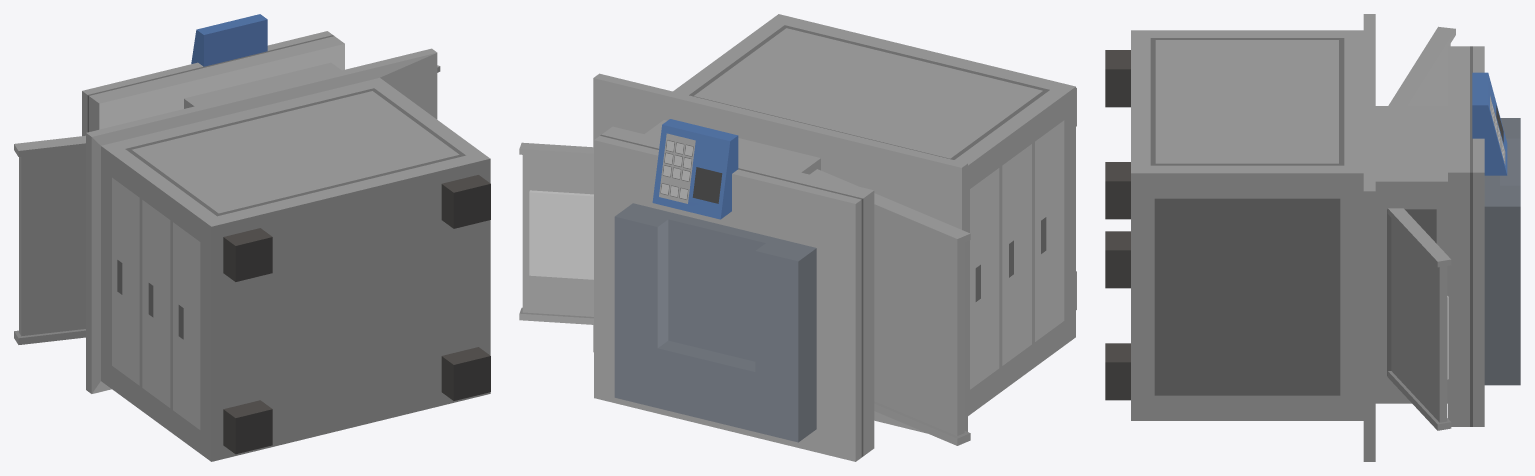
File: Photocopier.glb
3 renders of one model, left to right at view 1: azimuth 30°, elevation 25°; view 2: azimuth 150°, elevation 25°; view 3: azimuth 270°, elevation 25°, orthographic. The views are drawn at different scales.
Parts seen in each view (by area): view 1: SO_Photocopier; view 2: SO_Photocopier; view 3: SO_Photocopier.
Part boxes in pixels (bbox=[...]): SO_Photocopier: bbox=[14, 14, 490, 461]; SO_Photocopier: bbox=[519, 14, 1076, 461]; SO_Photocopier: bbox=[1105, 14, 1520, 461].
Size of the model in its own units: 2.93 by 1.87 by 2.38.
1 material, 1 textured.
